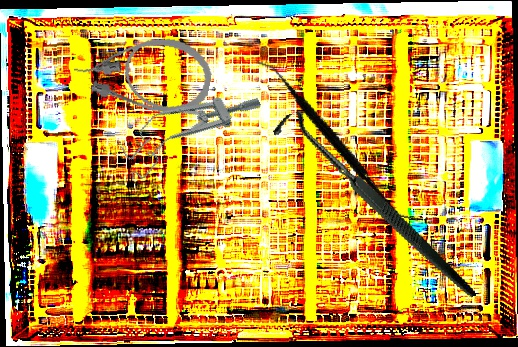Cannula: (69, 21, 217, 122)
Hook Surgical: (269, 76, 477, 340)
Spatula Surgical: (226, 59, 448, 222)
Speculum: (111, 70, 267, 183)
